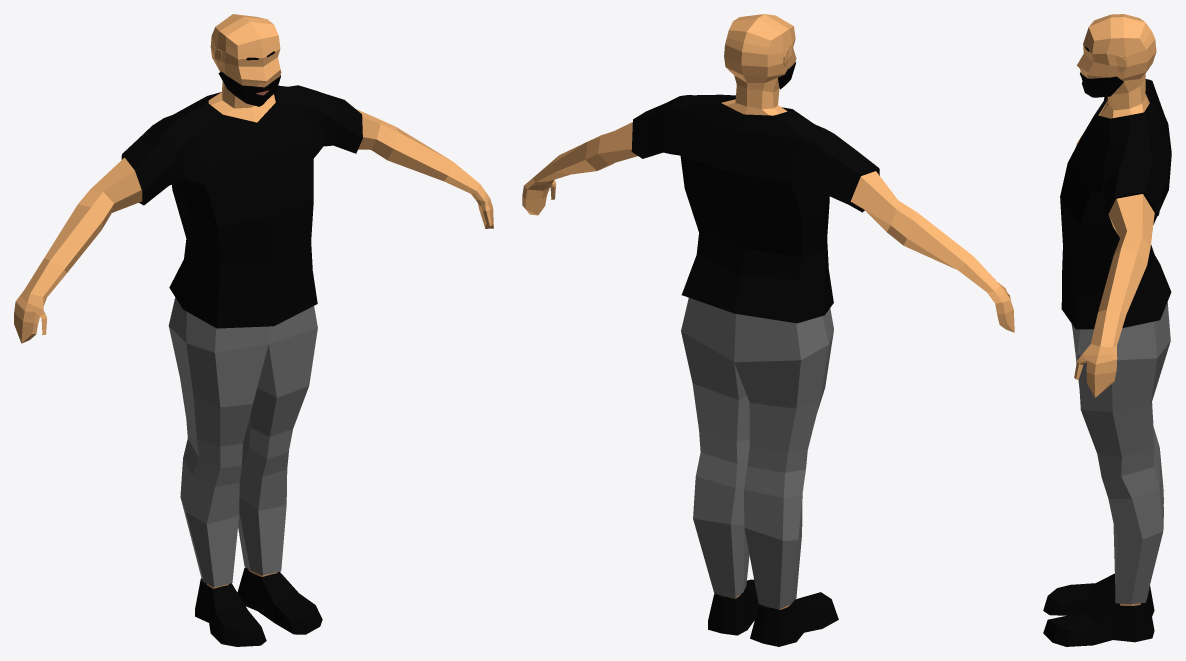
File: Npc3.fbx
The picture shows the model from 3 angles, left to right: view 1: azimuth 30°, elevation 25°; view 2: azimuth 150°, elevation 25°; view 3: azimuth 270°, elevation 25°; orthographic projection. The views are drawn at different scales.
Visible parts, largest first — view 1: Body.002; view 2: Body.002; view 3: Body.002.
Part boxes in pixels (x1,y1,x2,y2): Body.002: (14,14,493,646); Body.002: (522,14,1014,646); Body.002: (1043,14,1171,646).
Size of the model in its own units: 537 by 646 by 124.
